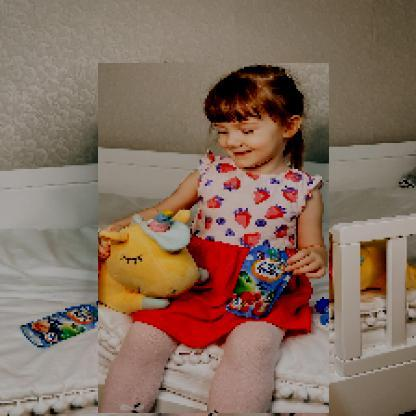child: (100, 64, 332, 415)
